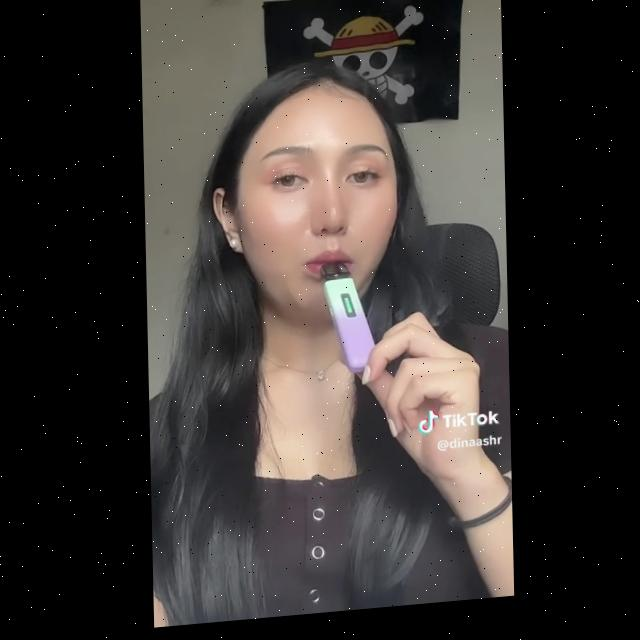vape: (319, 263, 378, 385)
